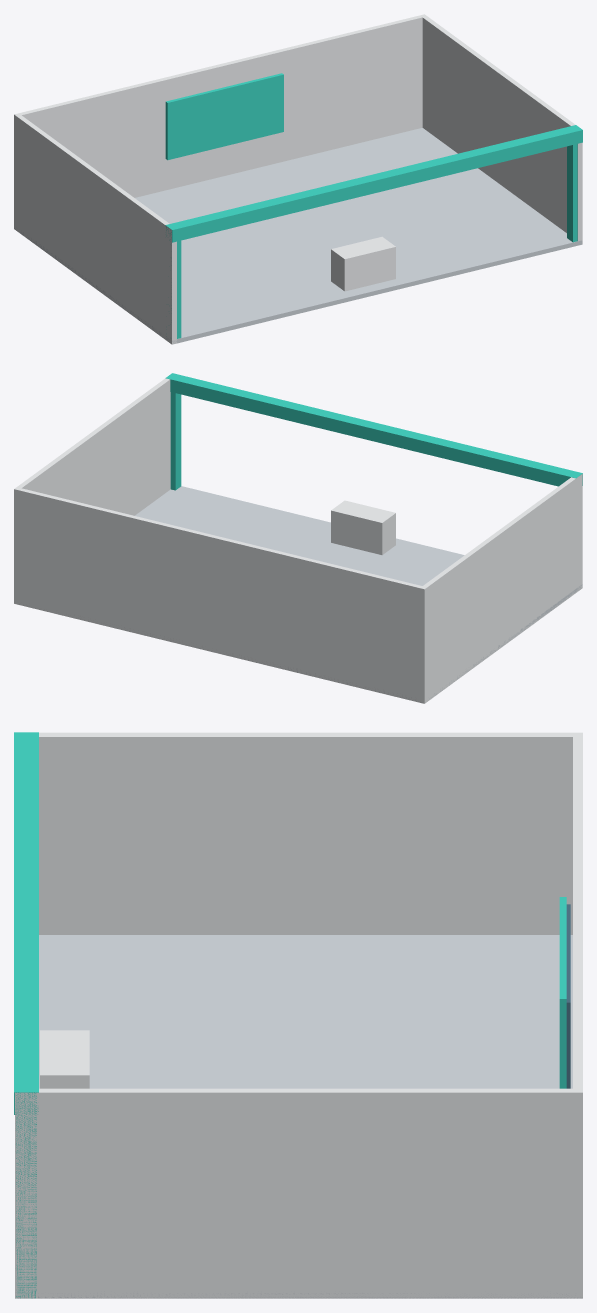
3 renders of one model, top to bottom at view 1: azimuth 30°, elevation 25°; view 2: azimuth 150°, elevation 25°; view 3: azimuth 270°, elevation 25°, orthographic. The views are drawn at different scales.
Parts seen in each view (by area): view 1: Exhibition Booth Concept; view 2: Exhibition Booth Concept; view 3: Exhibition Booth Concept.
Boxes of the visible parts, x1,y1,x2,y2 form: Exhibition Booth Concept: (14, 14, 582, 344); Exhibition Booth Concept: (14, 373, 582, 703); Exhibition Booth Concept: (14, 732, 582, 1298).
Size of the model in its own units: 12 by 3.2 by 8.01.
